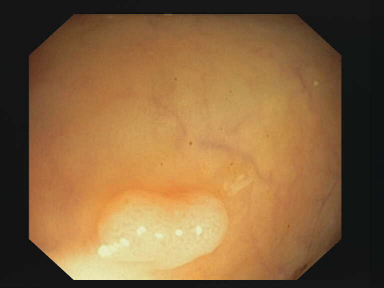polyp: (63, 153, 245, 288)
